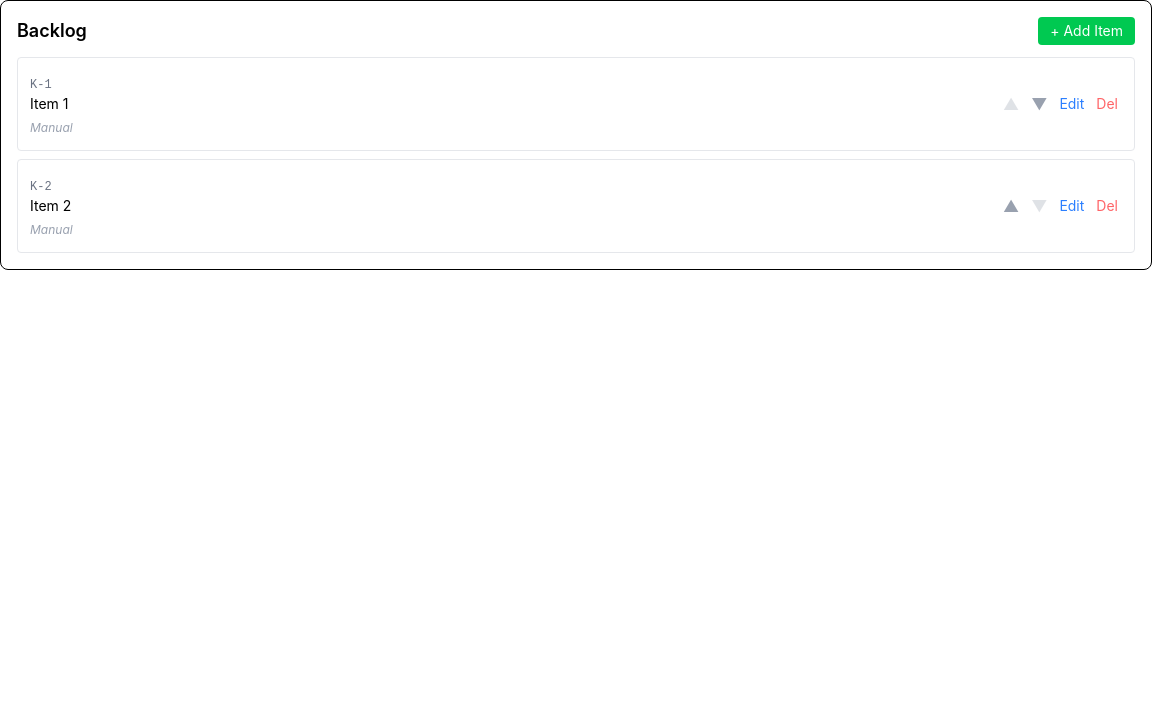
Scenario: BacklogPanel › opens add form on + Add Item click
The width and height of the screenshot is (1152, 720).
Click the button "+ Add Item" at (1087, 31), box [1038, 17, 1135, 45]
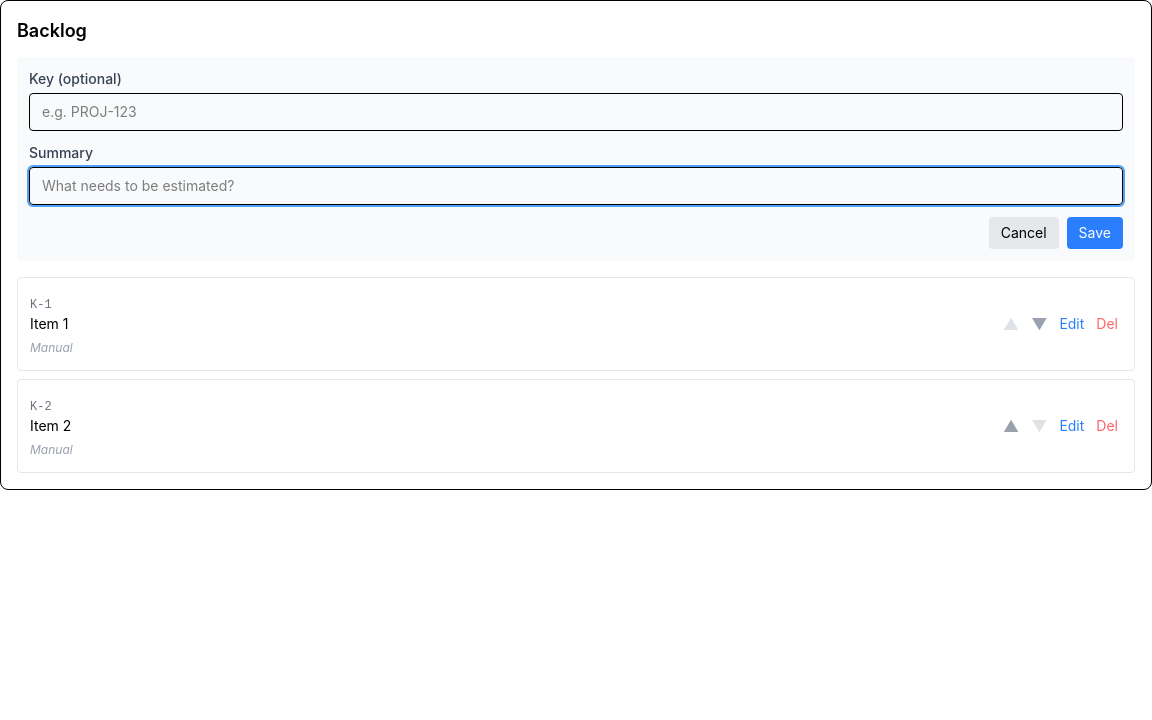
expect the field with placeholder "What needs to be estimated?" is shown: met, box [29, 167, 1123, 205]
